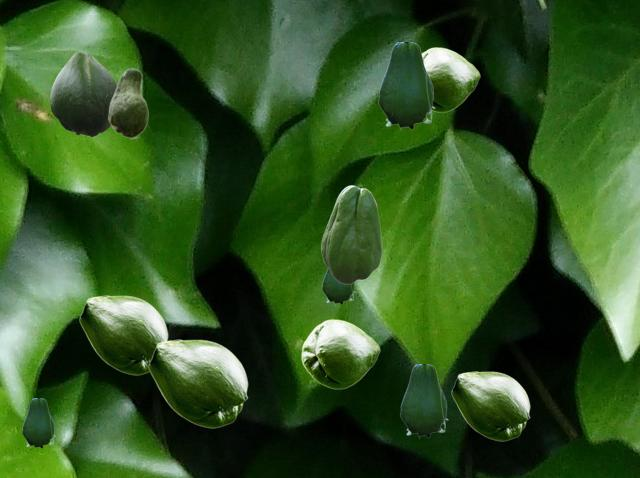sayote: (148, 339, 247, 427), (79, 295, 167, 374), (321, 185, 381, 283), (50, 52, 116, 136), (451, 371, 529, 440), (301, 319, 379, 388), (378, 42, 434, 130), (422, 47, 479, 111), (400, 364, 447, 438), (108, 68, 147, 137), (22, 398, 54, 448), (322, 268, 354, 304)
